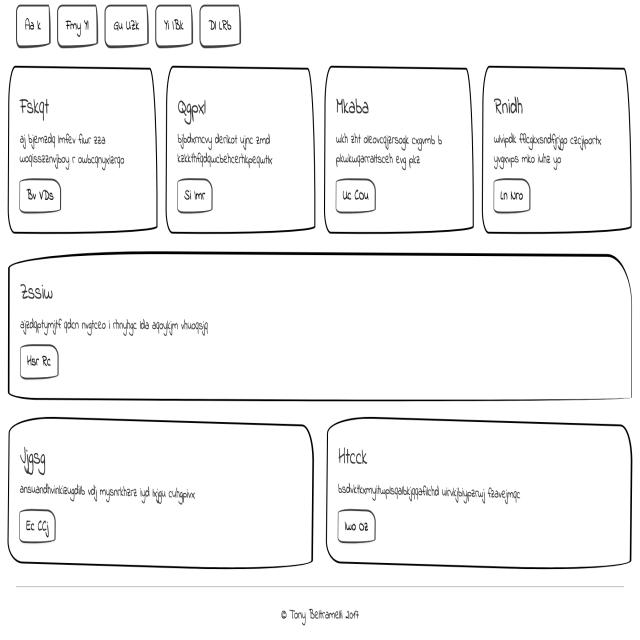Button: (334, 506, 379, 548), (16, 176, 63, 216), (334, 174, 378, 214), (492, 176, 532, 216), (18, 341, 60, 379), (17, 508, 59, 546), (176, 175, 213, 215)
Card: (7, 251, 634, 404), (324, 413, 634, 570), (7, 416, 315, 570), (162, 62, 316, 235), (323, 64, 475, 236), (8, 65, 158, 234), (484, 63, 632, 233)
Footer: (1, 584, 640, 640)
Heading 6: (491, 89, 527, 123), (17, 277, 56, 307), (175, 95, 214, 123), (334, 92, 372, 118), (19, 92, 53, 120), (336, 443, 369, 471), (20, 449, 48, 479)
Navigation Bar: (15, 1, 245, 51)
Paragraph: (17, 311, 226, 338), (15, 480, 200, 508), (334, 477, 523, 503), (15, 128, 126, 172), (490, 131, 609, 172), (333, 126, 443, 170), (175, 129, 275, 167)
